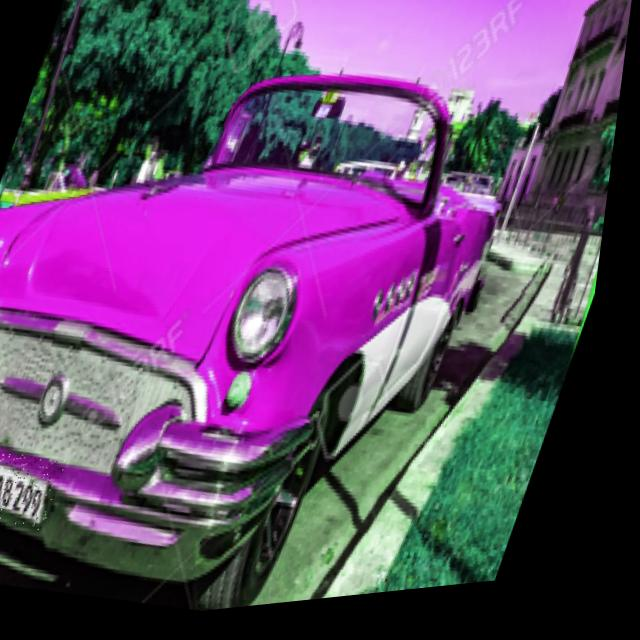license_plate: (0, 440, 82, 541)
